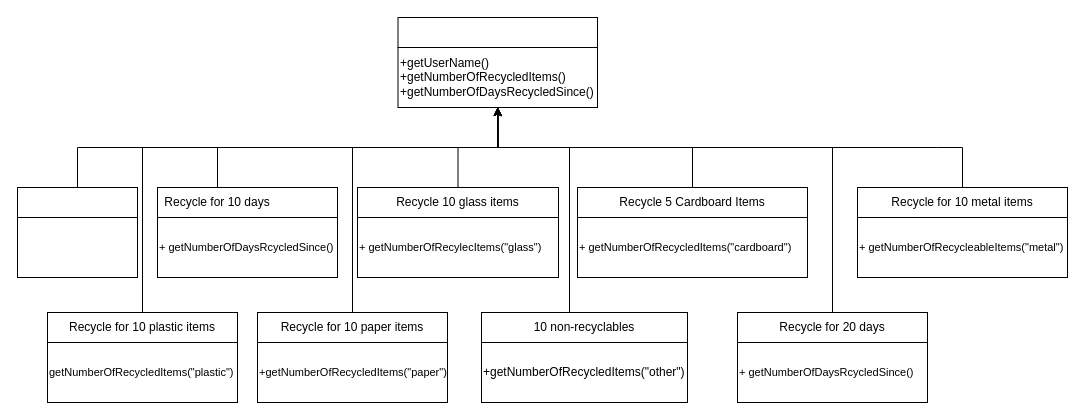
Image size: 1085x420. Some labels were removed from this diagram. Each missing label, with the centre of its shape:
"-getUserName()" goes at pixel 77 247.
"Badge" goes at pixel 497 32.
"Create An Account" goes at pixel 77 202.
